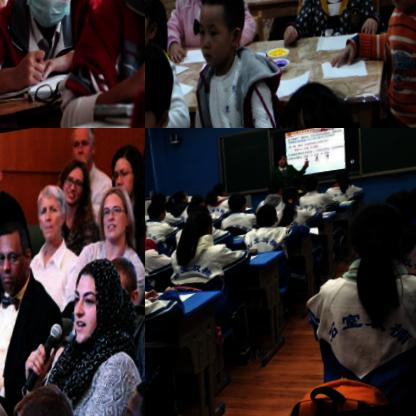head: (67, 252, 141, 354), (188, 0, 263, 79), (267, 75, 365, 128), (348, 200, 407, 268), (145, 42, 191, 128), (6, 379, 93, 416), (0, 218, 40, 295), (104, 251, 144, 319), (95, 182, 138, 245), (104, 142, 145, 204), (30, 180, 70, 240), (17, 0, 91, 31), (57, 158, 92, 205), (145, 0, 172, 57), (66, 128, 100, 168), (386, 188, 416, 228), (185, 209, 217, 242), (256, 203, 283, 229), (228, 192, 254, 214), (149, 201, 173, 222), (282, 184, 304, 206), (302, 173, 322, 196), (170, 188, 193, 207), (211, 182, 231, 203), (267, 181, 289, 200), (189, 193, 208, 211), (335, 170, 354, 187), (290, 175, 307, 192), (145, 213, 154, 245), (151, 190, 170, 205), (274, 154, 291, 170)
